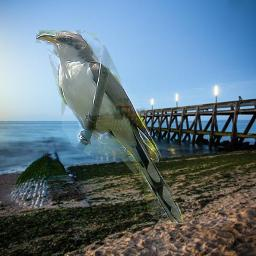Cuckoo: (36, 30, 183, 224)
